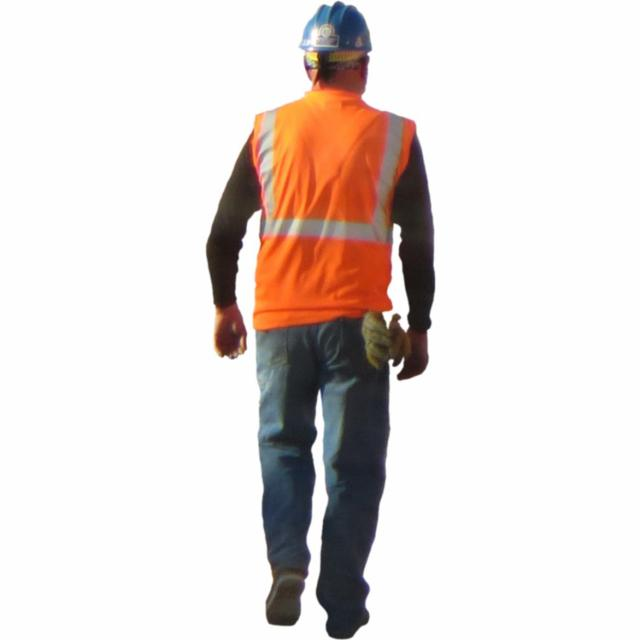Reflective-Jacket: (235, 94, 425, 336)
Safety-Helmet: (293, 0, 382, 64)
